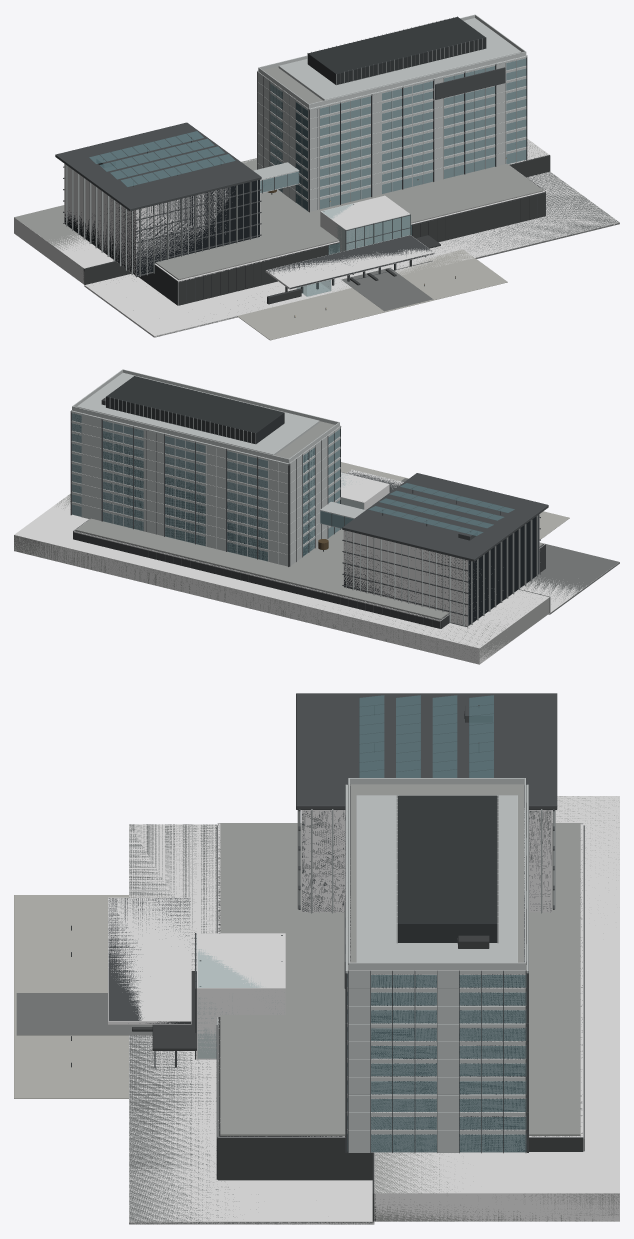
File: SK_HynixChengjuHQ.fbx
3 views of the same model, one above another, from view 1: azimuth 30°, elevation 25°; view 2: azimuth 150°, elevation 25°; view 3: azimuth 270°, elevation 25° (orthographic). The views are drawn at different scales.
Visible parts, largest first — view 1: COL_SUPEX_Office_Block, COL_SUPEX_South_Lower_Site, Structure_Podium_Slab_L03, Mass_Parking_Roof_Canopy, Site_South_Entry_Plaza, Mass_Separate_Screened_Parking_Wing, COL_SUPEX_Parking_Block, Roof_Office_Mechanical_Backup, Site_South_Lower_Plateau, Mass_Office_Floating_Crown, COL_SUPEX_Offset_Lobby, COL_SUPEX_Gateway_Roof (+15 smaller); view 2: COL_SUPEX_North_Upper_Site, COL_SUPEX_Office_Block, Mass_Parking_Roof_Canopy, Structure_Podium_Slab_L03, COL_SUPEX_Parking_Block, Roof_Office_Mechanical_Backup, Mass_Separate_Screened_Parking_Wing, Site_North_Upper_Plateau, Mass_Office_Floating_Crown, Site_South_Lower_Plateau, COL_SUPEX_Offset_Lobby, Mass_Light_Ten_Story_Office (+9 smaller); view 3: Structure_Podium_Slab_L03, COL_SUPEX_North_Upper_Site, COL_SUPEX_South_Lower_Site, Mass_Parking_Roof_Canopy, COL_SUPEX_Office_Block, Site_South_Entry_Plaza, Site_South_Lower_Plateau, Roof_Office_Mechanical_Backup, Mass_Office_Floating_Crown, COL_SUPEX_Gateway_Roof, COL_SUPEX_Offset_Lobby, Podium_East_Granite_Wall (+12 smaller).
Boxes of the visible parts, x1,y1,x2,y2 form: COL_SUPEX_Office_Block: (259, 55, 526, 211); COL_SUPEX_South_Lower_Site: (84, 172, 619, 337); Structure_Podium_Slab_L03: (155, 159, 543, 280); Mass_Parking_Roof_Canopy: (55, 122, 261, 211); Site_South_Entry_Plaza: (237, 249, 507, 340); Mass_Separate_Screened_Parking_Wing: (64, 180, 259, 275); COL_SUPEX_Parking_Block: (64, 164, 260, 275); Roof_Office_Mechanical_Backup: (308, 17, 485, 84); Site_South_Lower_Plateau: (113, 171, 619, 337); Mass_Office_Floating_Crown: (278, 18, 520, 100); COL_SUPEX_Offset_Lobby: (320, 195, 410, 251); COL_SUPEX_Gateway_Roof: (265, 235, 434, 289); COL_SUPEX_North_Upper_Site: (14, 493, 549, 664); COL_SUPEX_Office_Block: (72, 410, 339, 560); Mass_Parking_Roof_Canopy: (342, 473, 548, 561); Structure_Podium_Slab_L03: (75, 518, 543, 619); COL_SUPEX_Parking_Block: (343, 514, 539, 626); Roof_Office_Mechanical_Backup: (106, 376, 284, 443); Mass_Separate_Screened_Parking_Wing: (344, 514, 539, 625); Site_North_Upper_Plateau: (14, 494, 549, 662); Mass_Office_Floating_Crown: (77, 372, 319, 455); Site_South_Lower_Plateau: (521, 543, 619, 614); COL_SUPEX_Offset_Lobby: (341, 472, 389, 509); Mass_Light_Ten_Story_Office: (76, 421, 313, 559); Structure_Podium_Slab_L03: (220, 823, 580, 1135); COL_SUPEX_North_Upper_Site: (374, 796, 619, 1221); COL_SUPEX_South_Lower_Site: (129, 824, 373, 1224); Mass_Parking_Roof_Canopy: (296, 693, 557, 809); COL_SUPEX_Office_Block: (348, 808, 525, 1152); Site_South_Entry_Plaza: (14, 895, 168, 1098); Site_South_Lower_Plateau: (129, 824, 374, 1224); Roof_Office_Mechanical_Backup: (398, 795, 497, 942); Mass_Office_Floating_Crown: (356, 795, 517, 962); COL_SUPEX_Gateway_Roof: (108, 897, 191, 1024); COL_SUPEX_Offset_Lobby: (197, 933, 285, 1059); Podium_East_Granite_Wall: (217, 1137, 583, 1180).
Size of the model in its own units: 18000 by 5341 by 11600.
